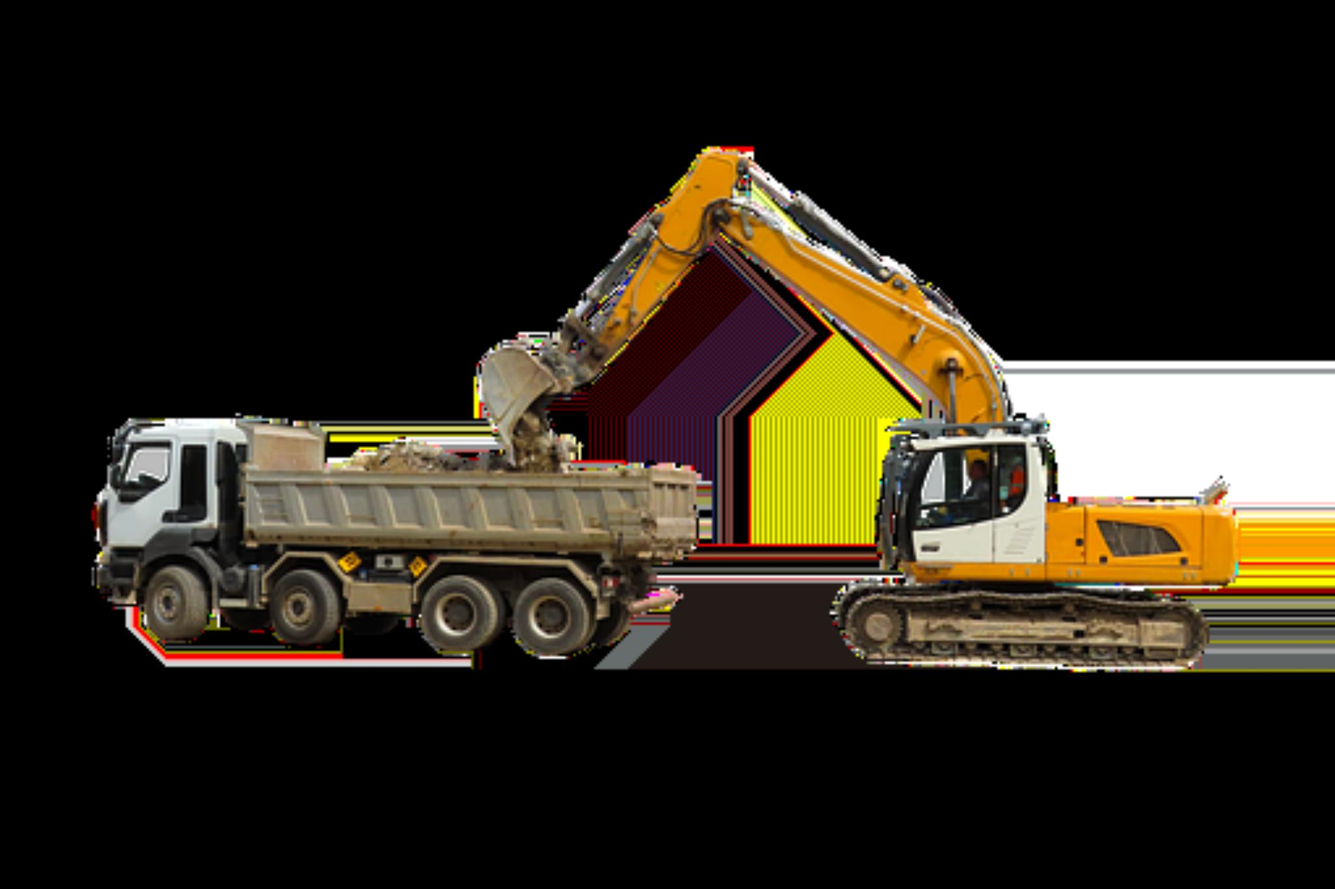excavator: (709, 141, 1283, 692)
truck: (101, 398, 656, 650)
